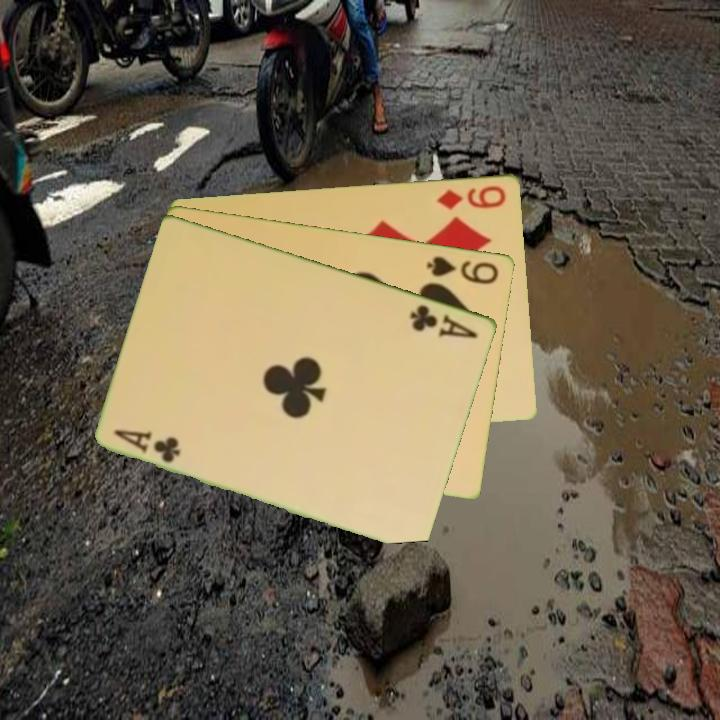9d: (434, 182, 509, 212)
9s: (424, 252, 502, 287)
Ac: (407, 300, 482, 341), (111, 425, 184, 466)
